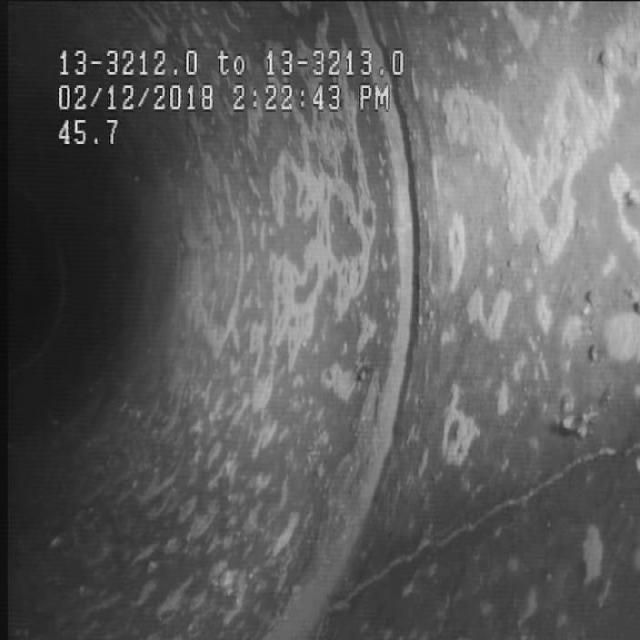Crack: (383, 386, 635, 592)
